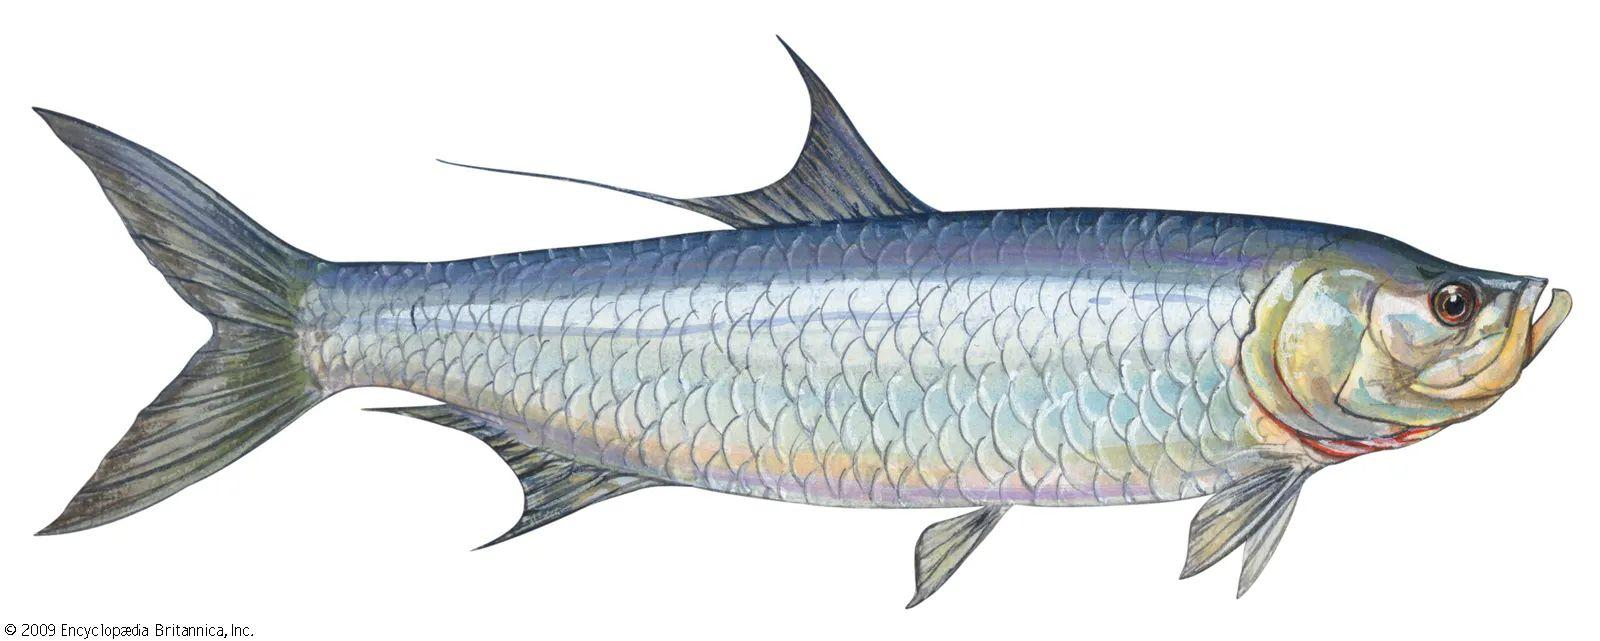Indo-Pacific Tarpon: (27, 30, 1572, 610)
